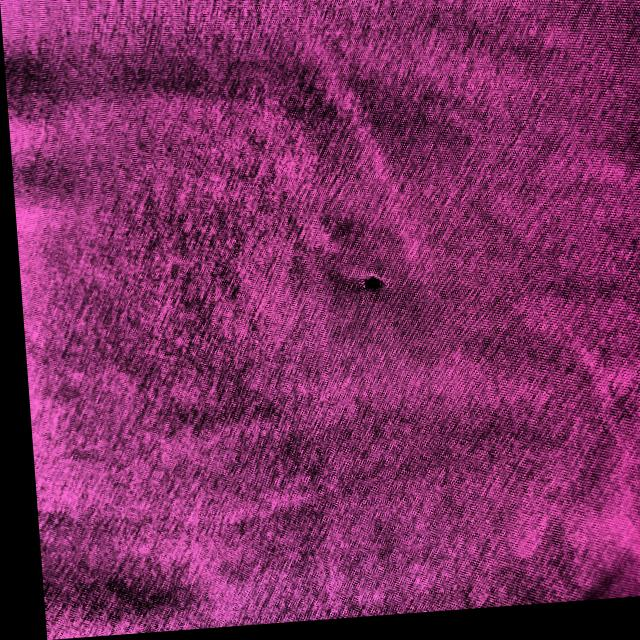Hole: (333, 337, 386, 378)
